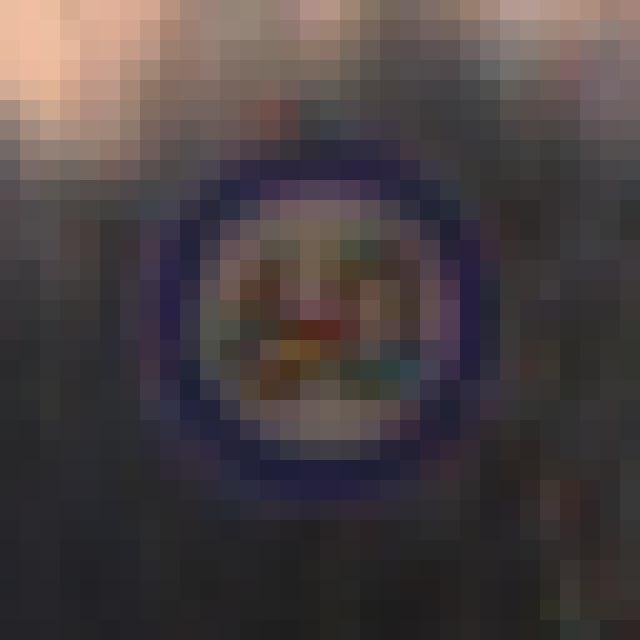SPEED-LIMIT-60: (144, 112, 498, 495)
